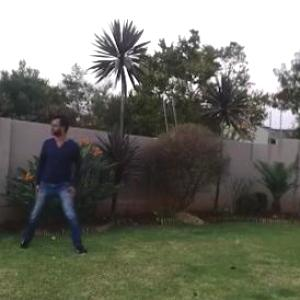follow: (35, 102, 80, 258)
